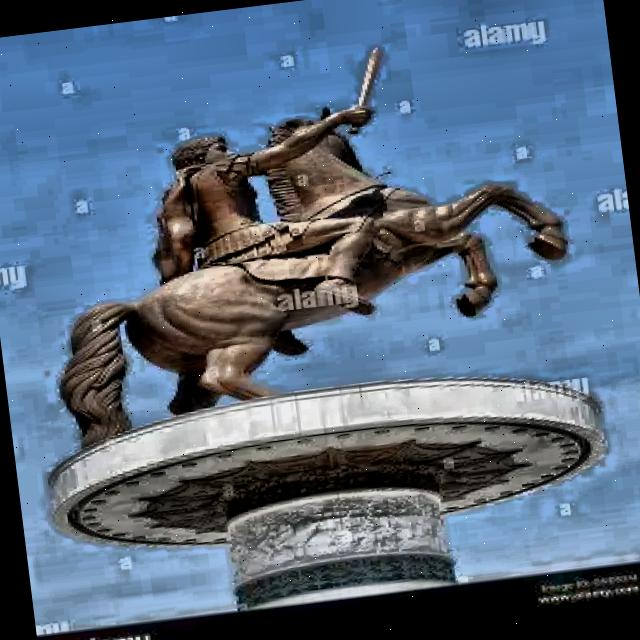alexander the great monument: (0, 20, 636, 638)
